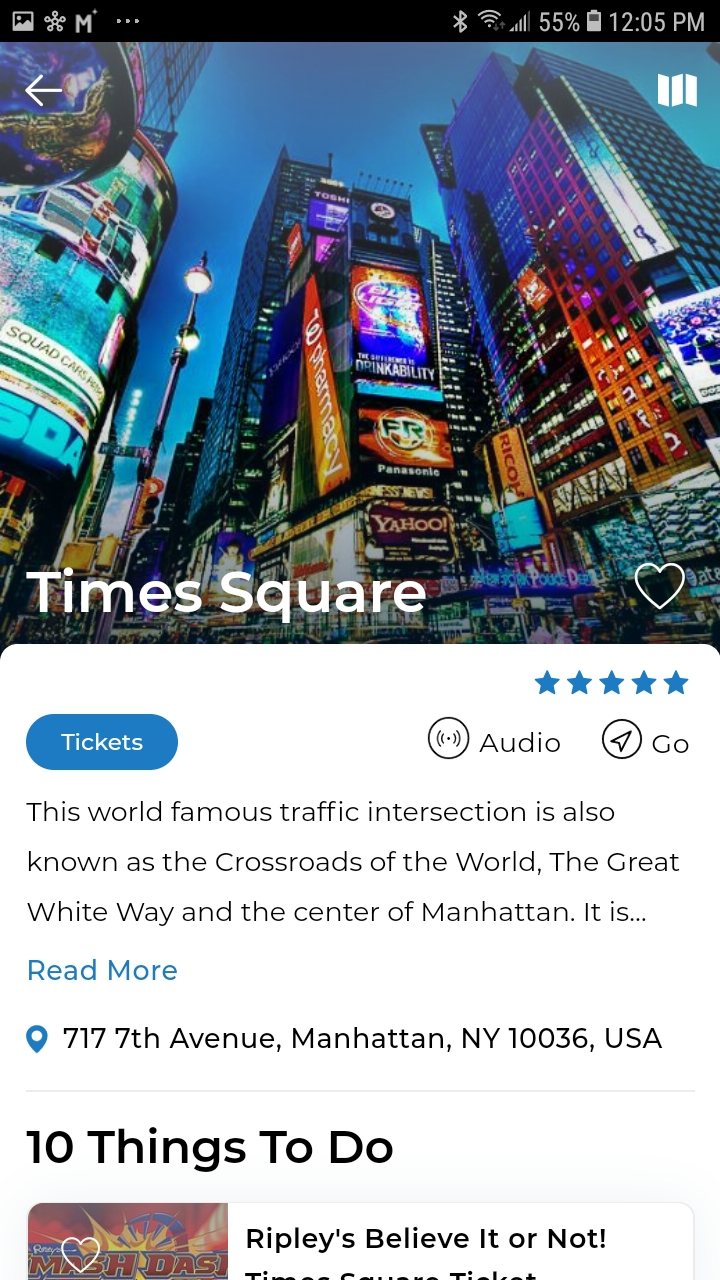Icon: (535, 671, 689, 695), (635, 563, 685, 609), (601, 720, 642, 760), (658, 75, 697, 108), (25, 75, 63, 107), (27, 1025, 49, 1054)
Image: (1, 43, 720, 644), (29, 1203, 229, 1280), (428, 718, 470, 760)
Text: (26, 801, 679, 927), (27, 567, 426, 624), (245, 1227, 605, 1280), (27, 1127, 393, 1172), (64, 1027, 662, 1052), (29, 959, 178, 981), (479, 732, 560, 752), (653, 736, 689, 754)
TextButton: (26, 714, 179, 770)
UpperTaskBar: (1, 1, 720, 43)
